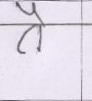ai_matra: (16, 2, 48, 23)
